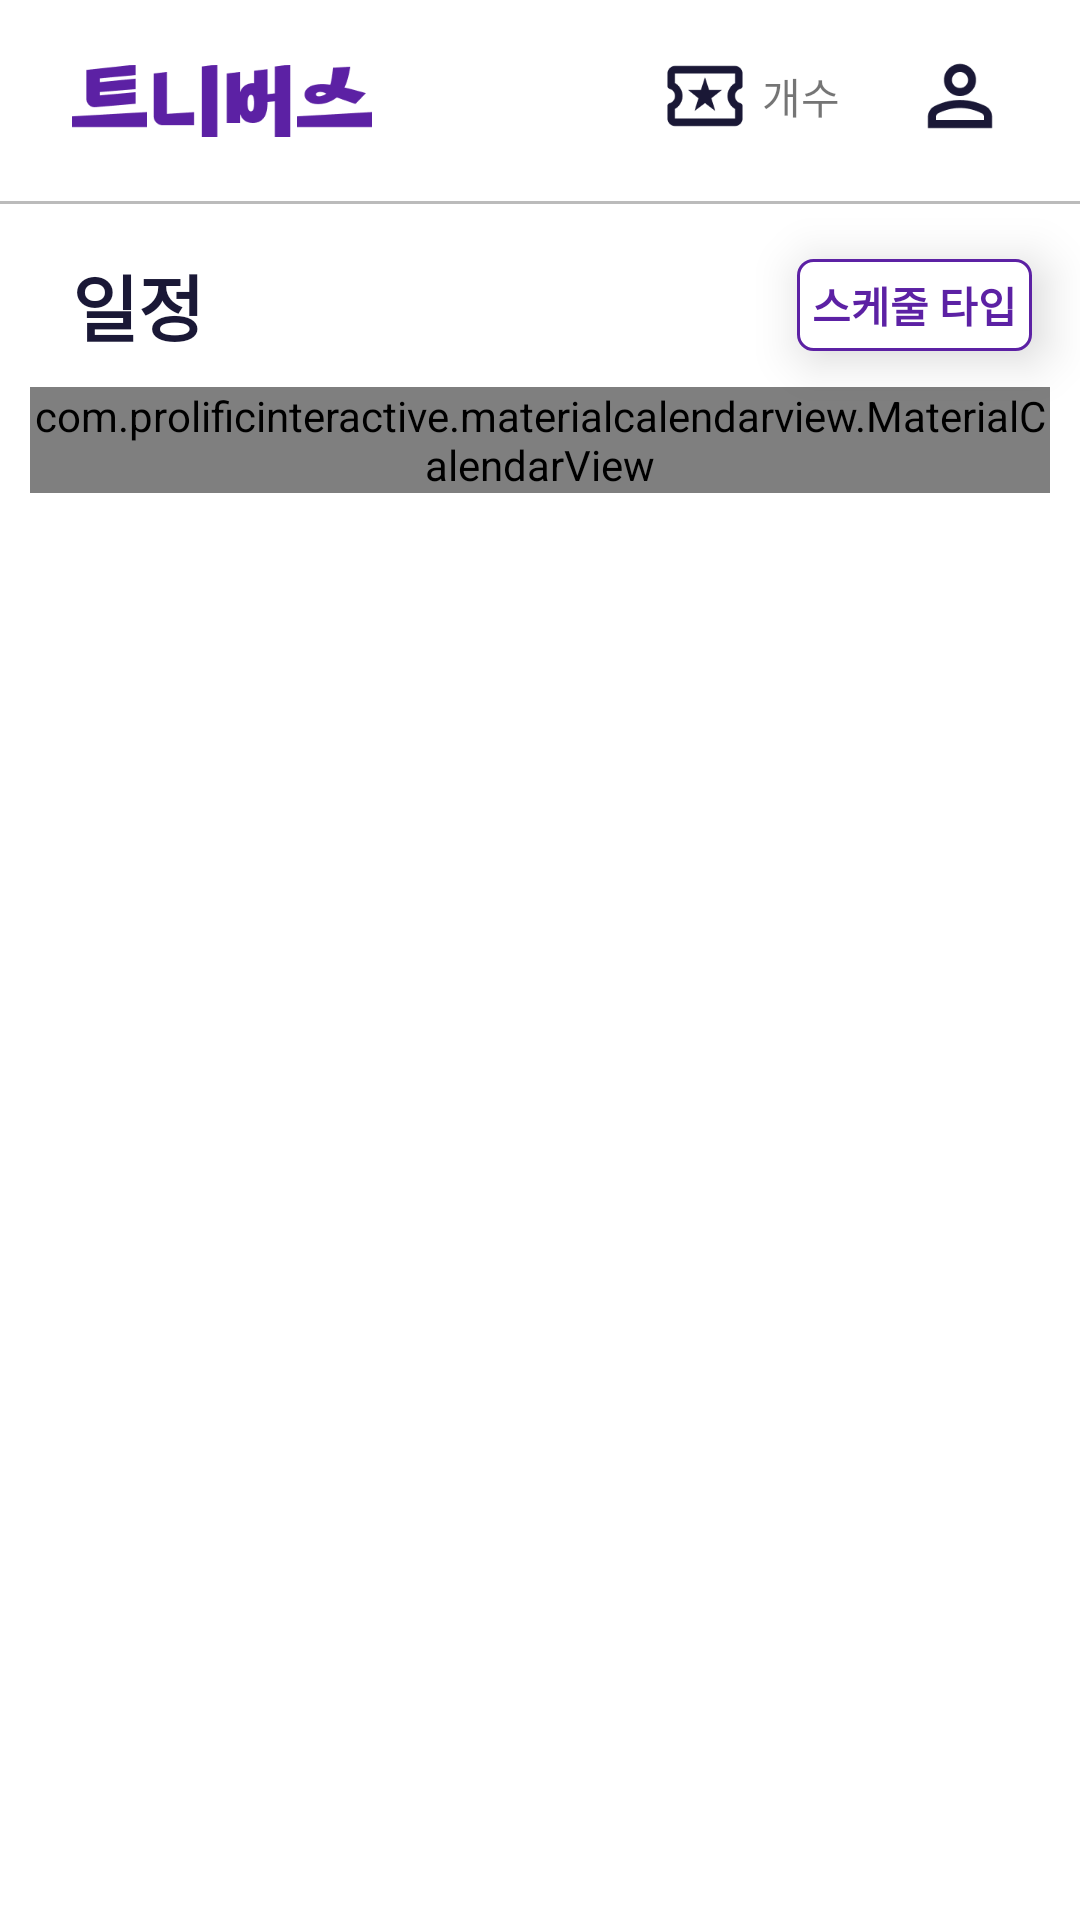

Icons on this 1080 x 1920 Android screen, each with the point to tap as [x,y]:
buy vote: [705,96]
person: [960,96]
